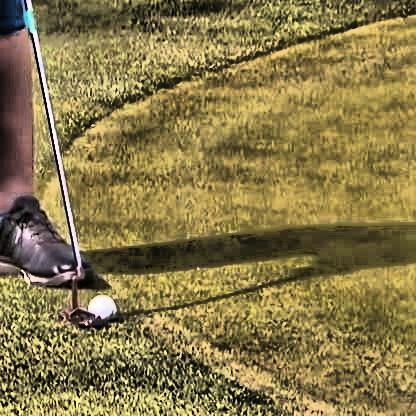golfball: (85, 292, 113, 320)
